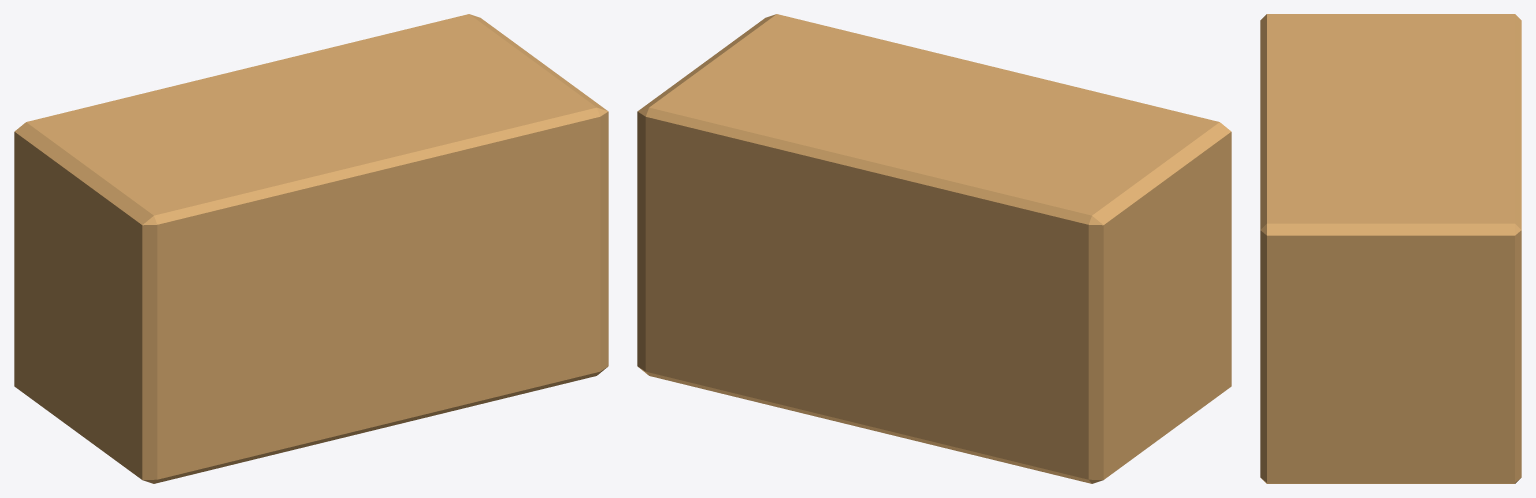
The model's file is wall_beech_2m.glb.
3 renders of one model, left to right at view 1: azimuth 30°, elevation 25°; view 2: azimuth 150°, elevation 25°; view 3: azimuth 270°, elevation 25°, orthographic. The views are drawn at different scales.
Parts seen in each view (by area): view 1: Block.006; view 2: Block.006; view 3: Block.006.
Boxes of the visible parts, x1,y1,x2,y2 form: Block.006: (14, 14, 608, 483); Block.006: (637, 14, 1231, 483); Block.006: (1260, 14, 1521, 483).
Size of the model in its own units: 2 by 1.1 by 1.
